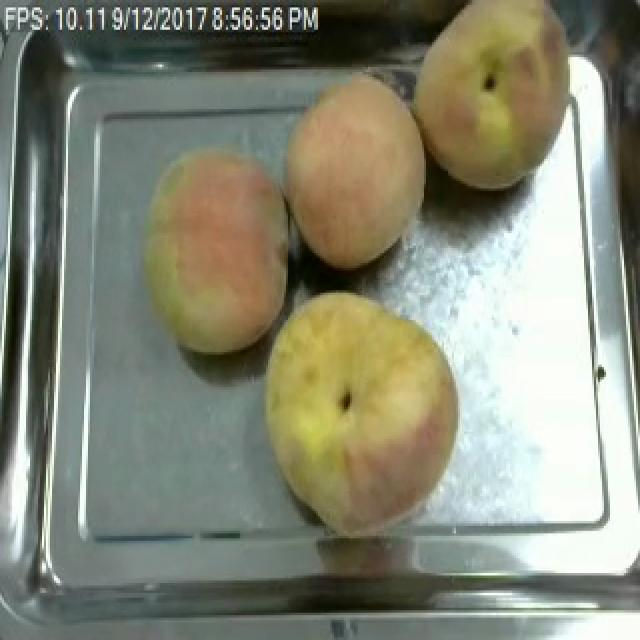Fruit: (254, 283, 472, 538), (400, 0, 596, 203), (134, 142, 296, 362), (282, 64, 440, 276)
